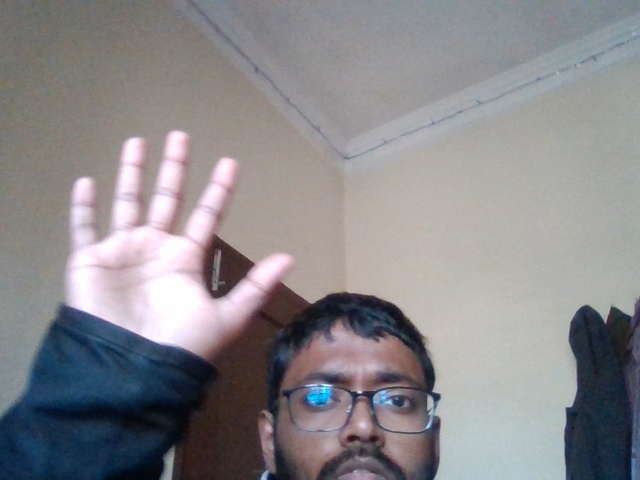Hello: (25, 110, 306, 365)
